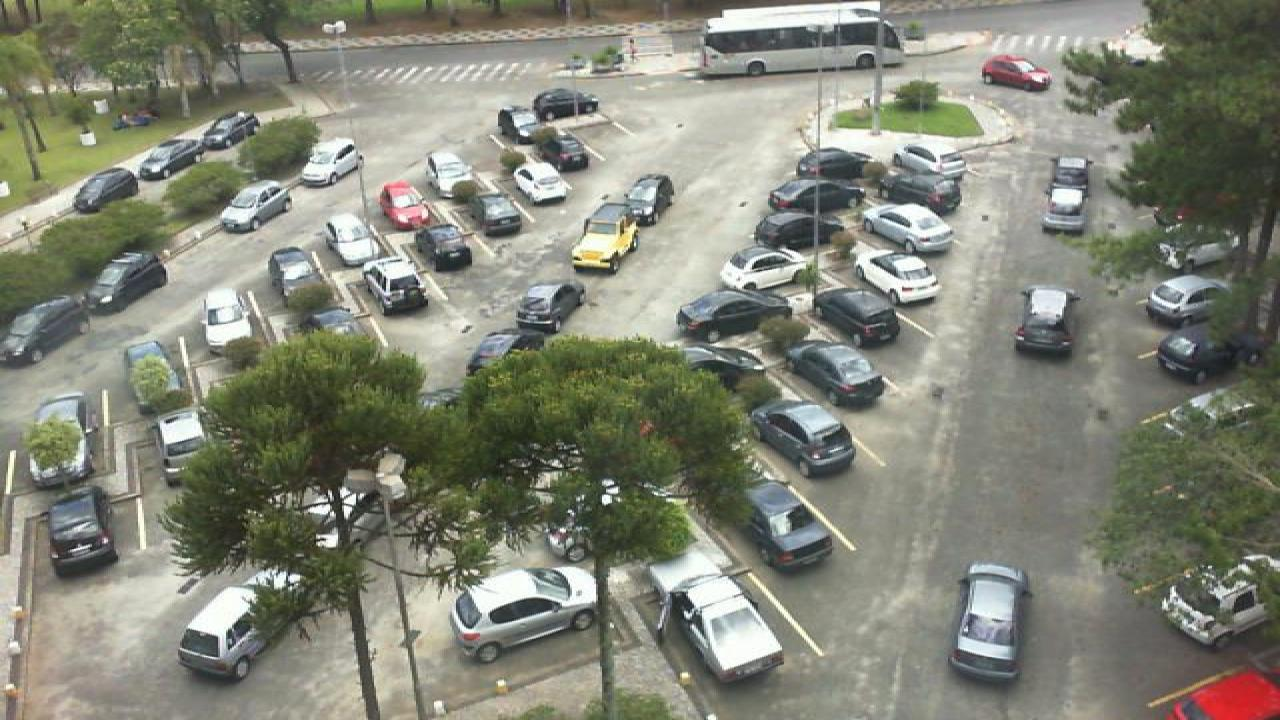Car: (642, 541, 786, 683), (450, 563, 600, 657), (1154, 552, 1280, 650), (176, 580, 286, 680), (948, 562, 1032, 683), (748, 399, 856, 477), (742, 480, 834, 570), (782, 340, 888, 411), (40, 488, 120, 574), (1150, 670, 1280, 720), (676, 288, 794, 342), (28, 392, 94, 487), (810, 286, 904, 351), (2, 296, 82, 367), (1156, 324, 1248, 385), (84, 252, 168, 315), (854, 250, 944, 308), (714, 243, 810, 296), (570, 202, 642, 272), (860, 204, 958, 254), (122, 341, 190, 412), (1012, 284, 1078, 356), (674, 343, 768, 393), (1144, 274, 1234, 326), (754, 210, 858, 252), (514, 280, 586, 336), (218, 178, 292, 232), (200, 288, 256, 358), (362, 258, 430, 315), (154, 408, 208, 476), (770, 178, 862, 216), (298, 136, 364, 188), (884, 177, 966, 217), (70, 168, 140, 214), (464, 330, 532, 376), (138, 138, 204, 184), (892, 143, 970, 181), (324, 214, 378, 268), (266, 246, 320, 298), (624, 174, 676, 228), (794, 148, 872, 184), (378, 180, 430, 233), (416, 224, 472, 272), (982, 54, 1054, 91), (514, 162, 572, 207), (528, 130, 590, 172), (198, 110, 258, 153), (494, 106, 548, 153), (426, 150, 474, 202), (530, 88, 600, 122), (1044, 184, 1092, 233), (468, 192, 520, 236), (1050, 155, 1094, 189)
